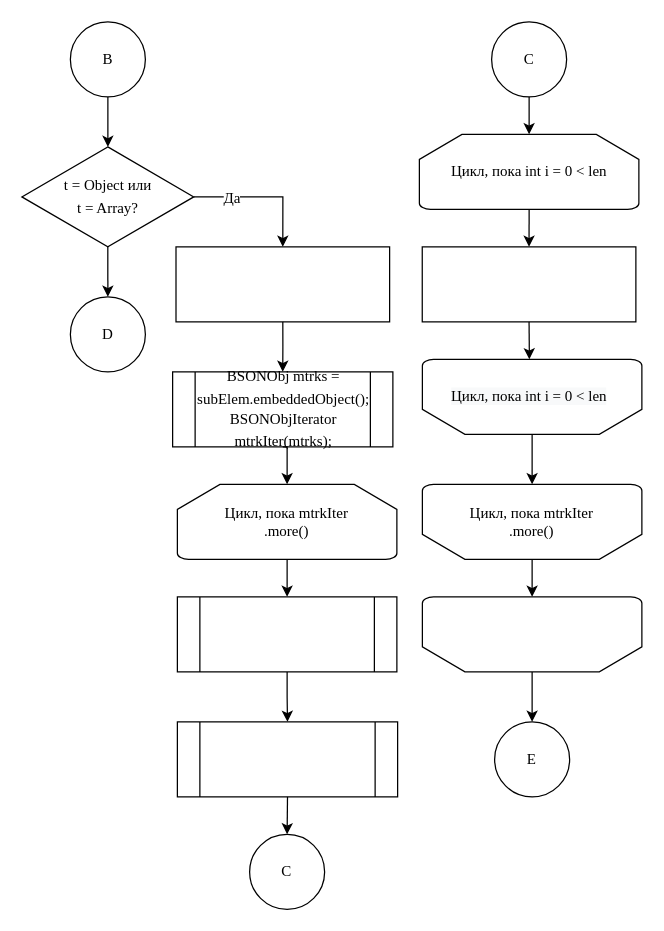
Image size: 664x931. Some labels were removed from this diagram. Each missing label, with the centre of its shape:
"BSONElement mtrk;" belongs at pixel 282 284.
"buffer += bytes[i]; i++;" belongs at pixel 528 284.
"bytes = getBsonElementValue(t, mtrk); len = mtrk.valuesize() - 5;" belongs at pixel 287 759.
"mtrk = mtrkIter .next(); t = mtrk .type();" belongs at pixel 286 634.
"Цикл, пока subObjIter .more()" belongs at pixel 531 634.
